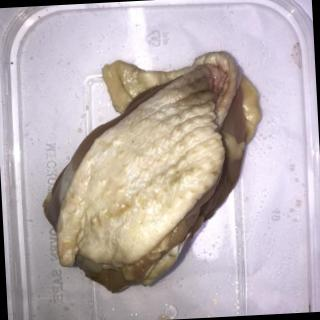Ayam: (35, 49, 272, 298)
